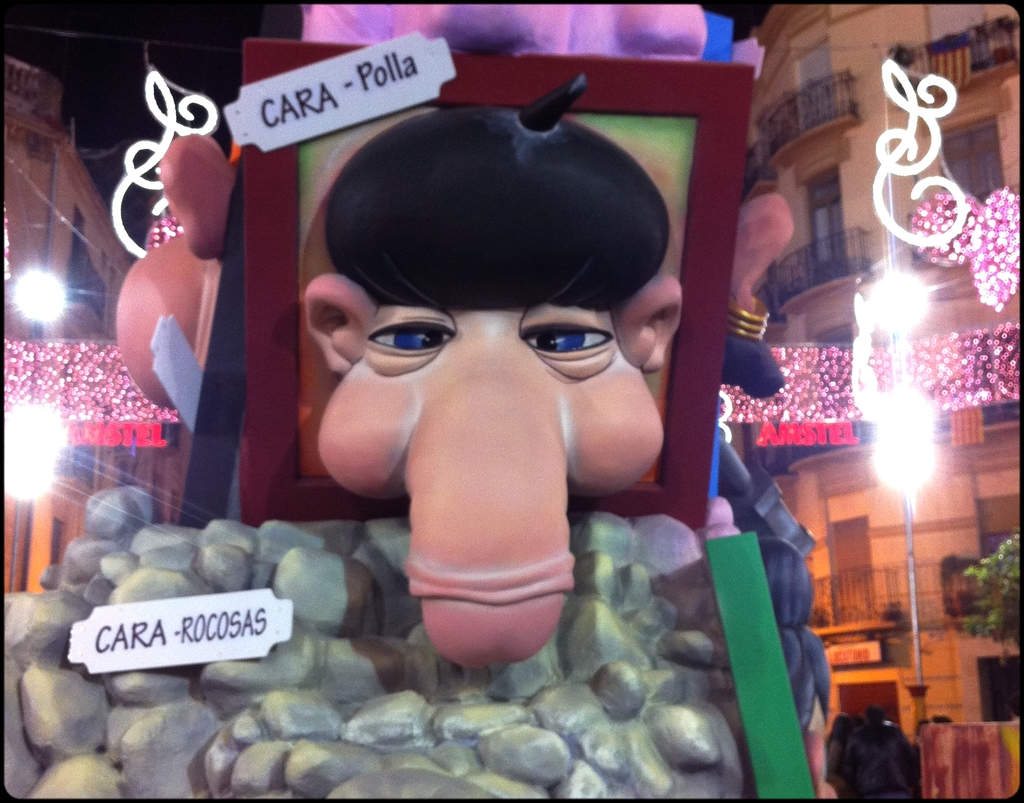Human-face: (316, 304, 660, 661)
